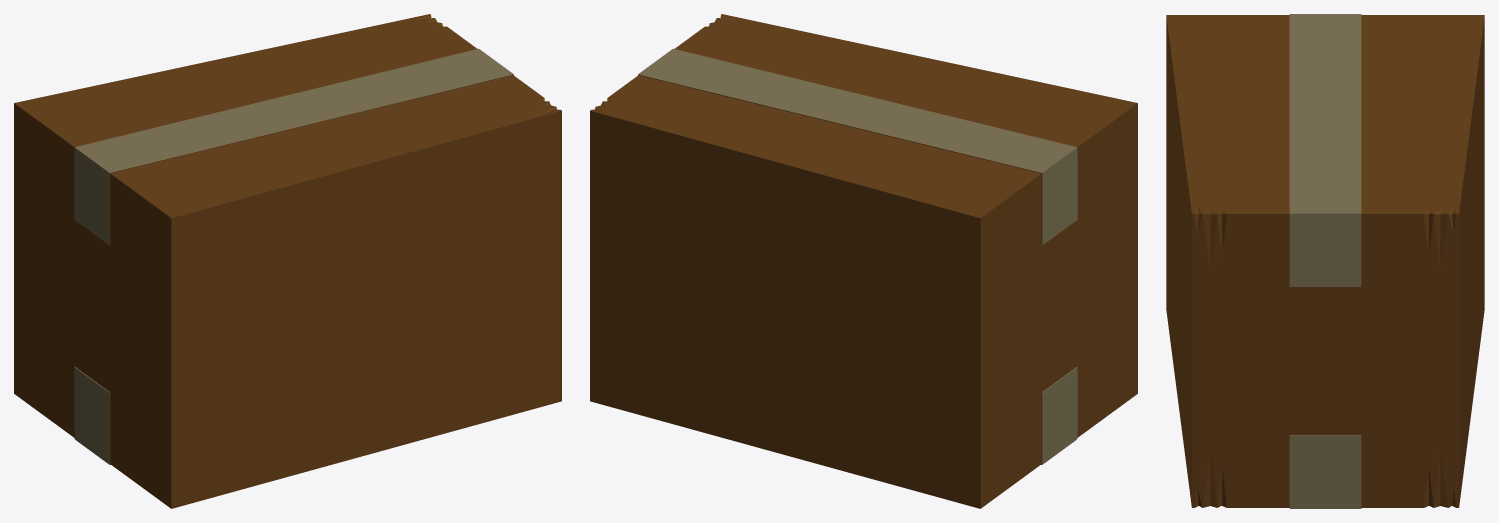
Rendered from Caixa 4.fbx.
3 views of the same model, side by side, from view 1: azimuth 30°, elevation 25°; view 2: azimuth 150°, elevation 25°; view 3: azimuth 270°, elevation 25° (orthographic).
Visible parts, largest first — view 1: Cube.010; view 2: Cube.010; view 3: Cube.010.
Part boxes in pixels (x1,y1,x2,y2): Cube.010: (14,14,561,508); Cube.010: (590,14,1137,508); Cube.010: (1166,14,1484,508).
Bounding box in the file's own units: 6.1 × 4.2 × 4.11.
